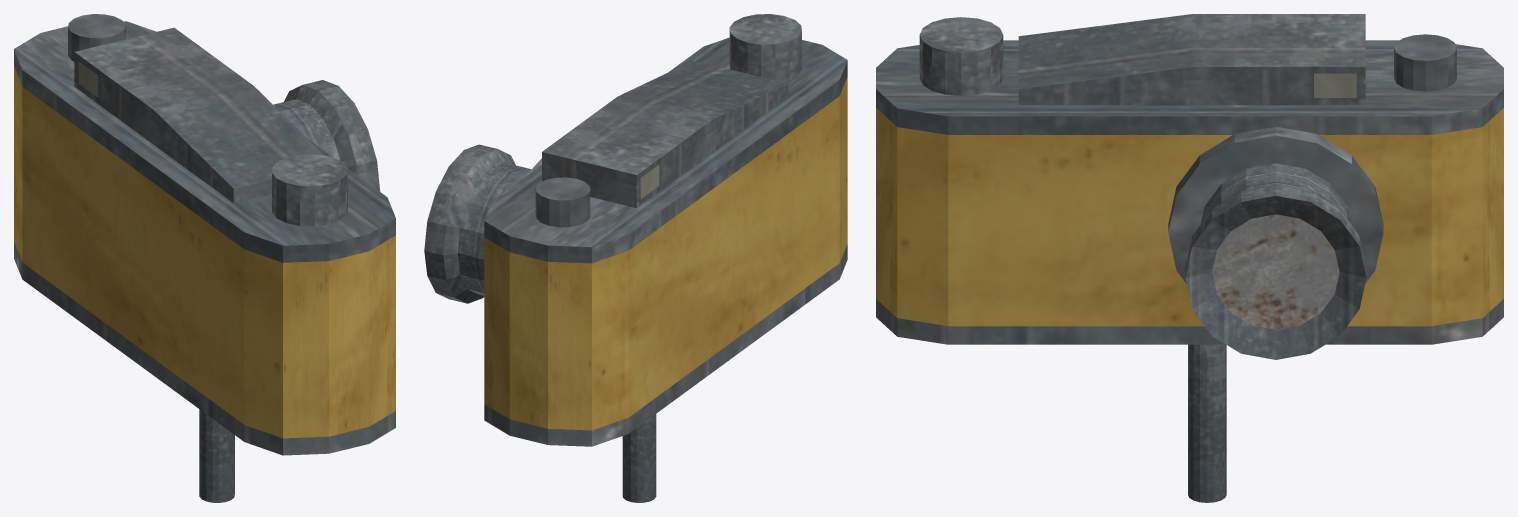
The model's file is photoSign.fbx.
The picture shows the model from 3 angles, left to right: view 1: azimuth 30°, elevation 25°; view 2: azimuth 150°, elevation 25°; view 3: azimuth 270°, elevation 25°; orthographic projection. The views are drawn at different scales.
Parts seen in each view (by area): view 1: photoSign; view 2: photoSign; view 3: photoSign.
Part boxes in pixels (box(x1,y1,x2,y2)): photoSign: box(14, 14, 395, 502); photoSign: box(424, 14, 847, 502); photoSign: box(876, 14, 1503, 502).
Bounding box in the file's own units: 92.82 × 150 × 189.
